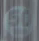Speed limit: (1, 2, 36, 40)
